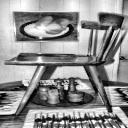chair_success: (6, 8, 128, 116)
